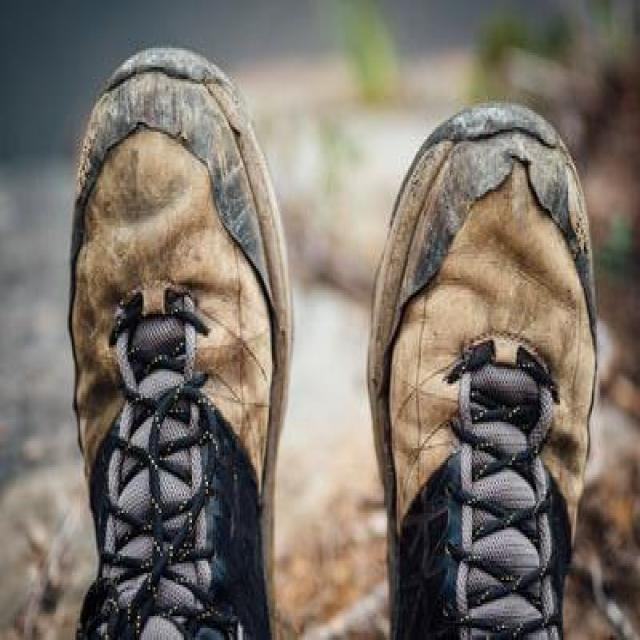Vest: (65, 45, 298, 638), (366, 100, 600, 638)
